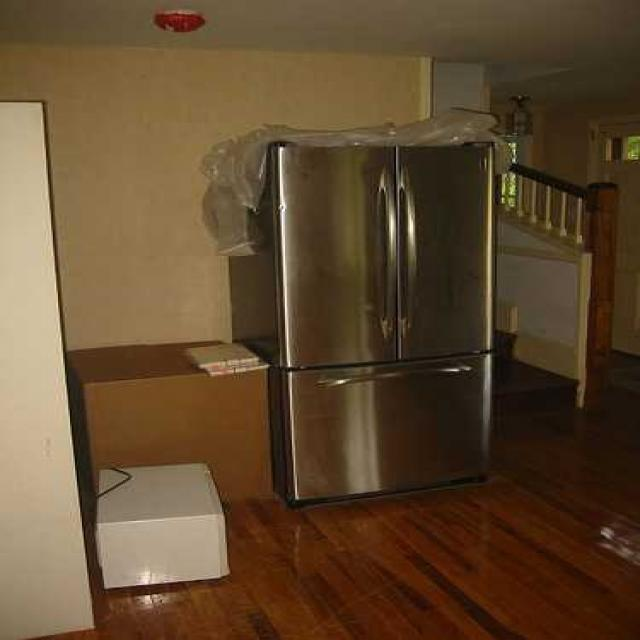refrigerator: (274, 139, 501, 501)
